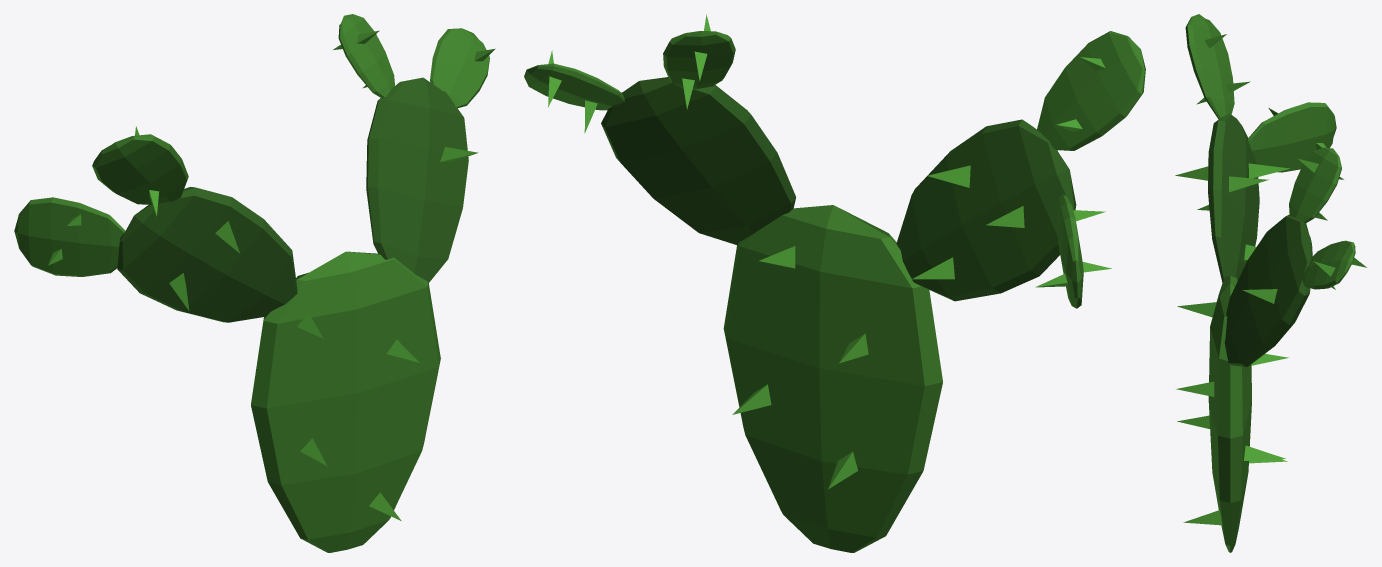
The model's file is Cactus_28_B.fbx.
3 views of the same model, side by side, from view 1: azimuth 30°, elevation 25°; view 2: azimuth 150°, elevation 25°; view 3: azimuth 270°, elevation 25° (orthographic). The views are drawn at different scales.
Visible parts, largest first — view 1: Cactus_28_B; view 2: Cactus_28_B; view 3: Cactus_28_B.
Part boxes in pixels (x1=…): Cactus_28_B: x1=14, y1=14, x2=495, y2=552; Cactus_28_B: x1=524, y1=14, x2=1145, y2=552; Cactus_28_B: x1=1175, y1=14, x2=1366, y2=552.
Size of the model in its own units: 169 by 165 by 67.27.
